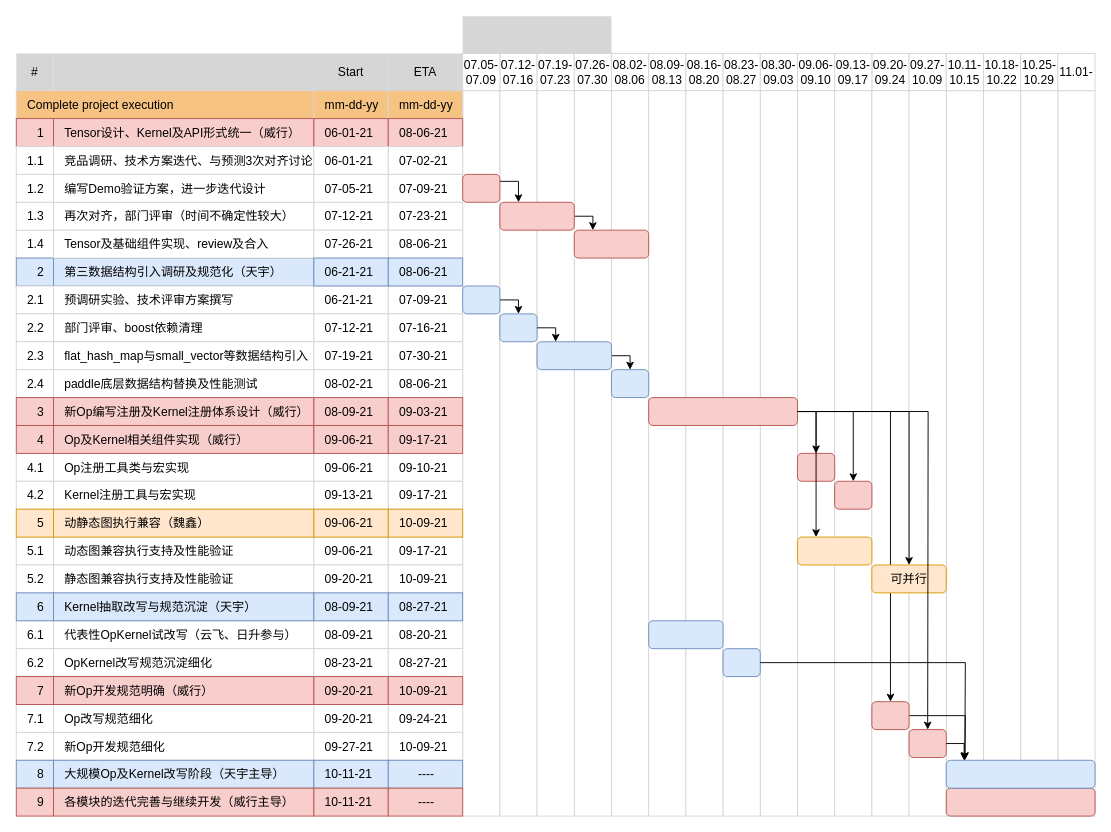
This 1111x832 diagram has some shape labels left out. Here are the shapes that lost their labels. From the top down, the centre of each, then its label:
(536,34): Timeline
(183,71): 函数式Op体系重构项目
(685,634): 可小范围并行
(1020,773): 可大范围并行
(1020,801): 长期迭代维护，可并行
